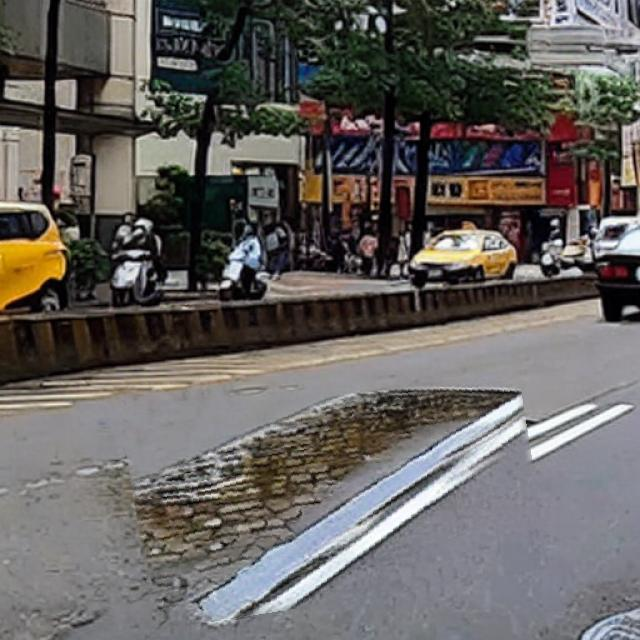puddle: (131, 383, 543, 617)
